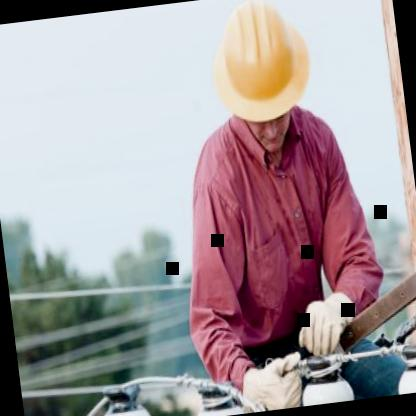helmet: (195, 0, 323, 168)
